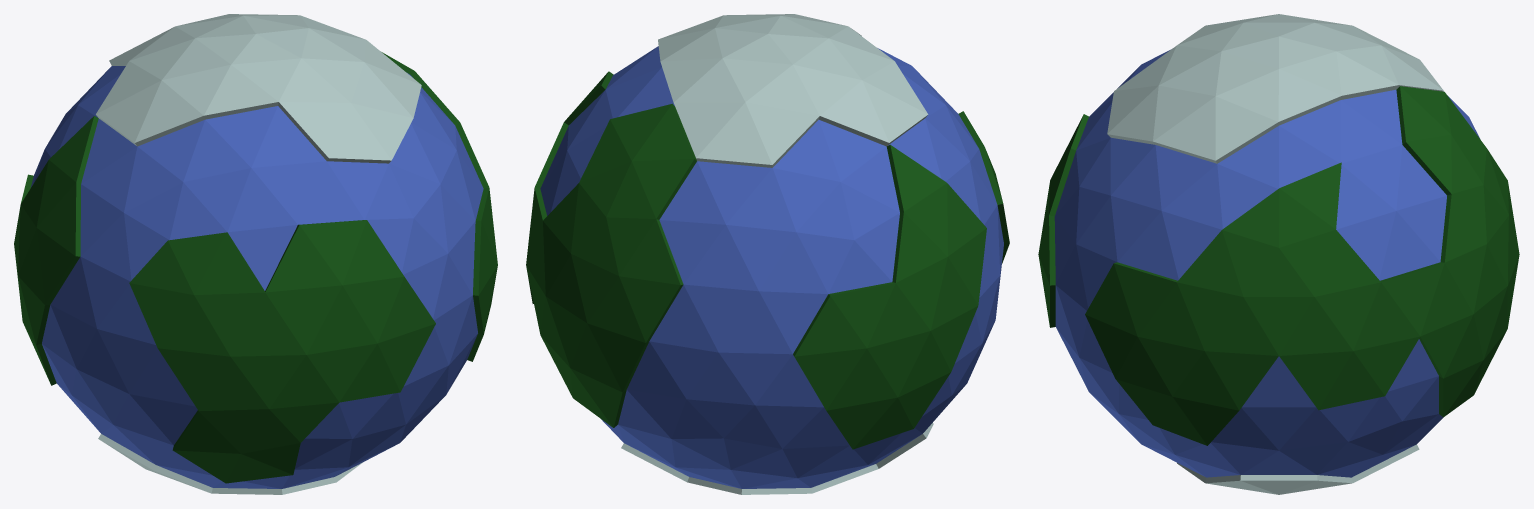
File: Dunya(2).fbx
3 views of the same model, side by side, from view 1: azimuth 30°, elevation 25°; view 2: azimuth 150°, elevation 25°; view 3: azimuth 270°, elevation 25° (orthographic).
Visible parts, largest first — view 1: Dunya2; view 2: Dunya2; view 3: Dunya2.
Boxes of the visible parts, <box> form: Dunya2: <box>14,14,497,494</box>; Dunya2: <box>526,14,1009,494</box>; Dunya2: <box>1038,14,1519,494</box>.
Size of the model in its own units: 205 by 205 by 205.
Materials: 3 (3 with a texture image).
